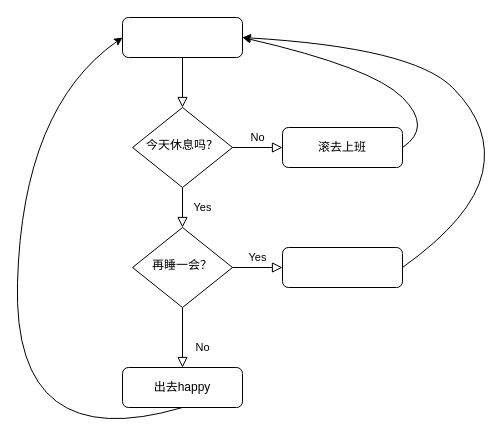
The diagram is 503 pixels wide and 437 high, and some of its shapes have lost their labels. The shapes that lost their labels are listed below. From the top down, each one's box as (x1, y1, x2, y2) in pixels, then its label:
(122, 16, 242, 58): 起床
(282, 246, 402, 288): 第二天
